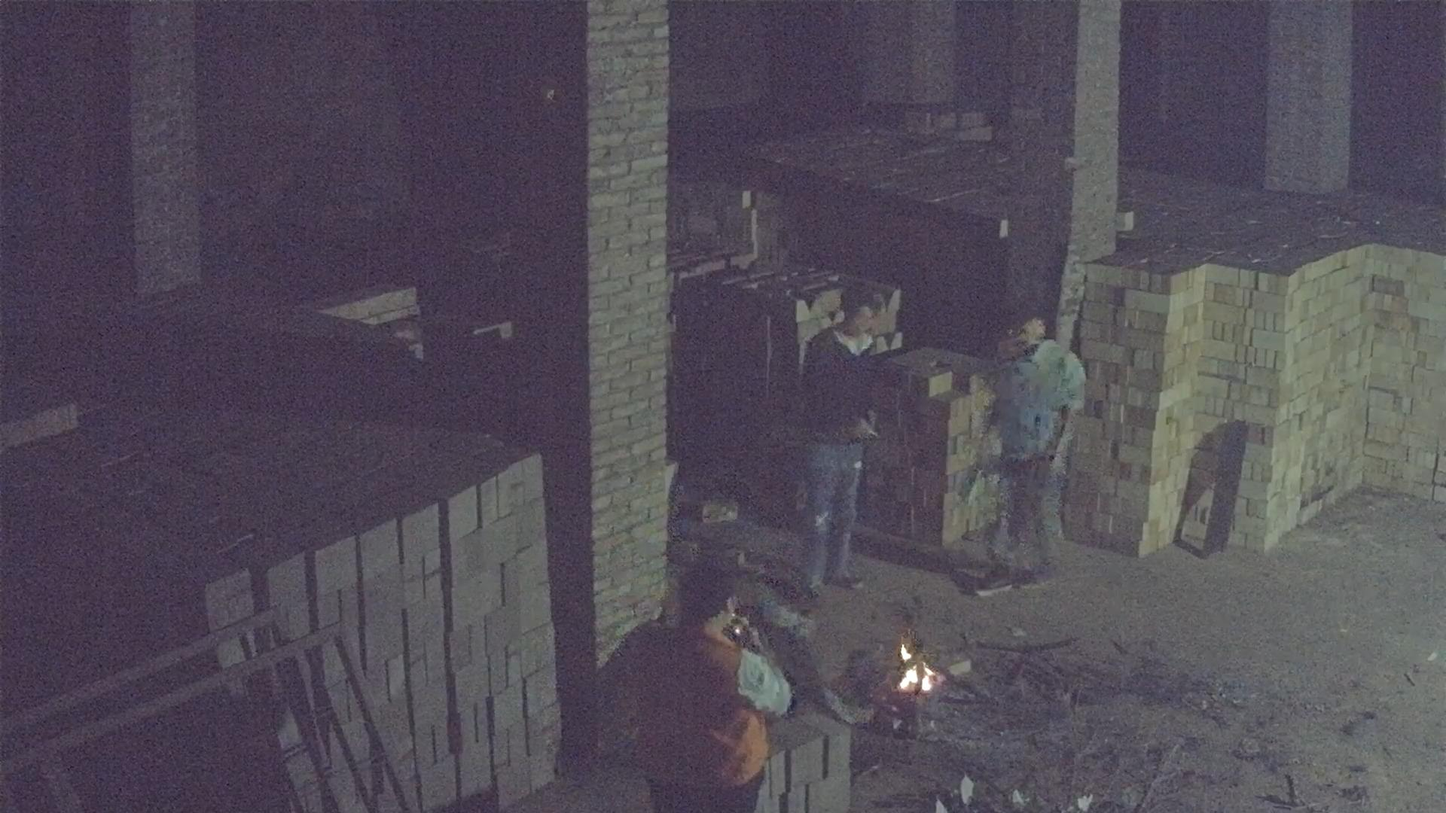fire: (895, 638, 941, 693)
